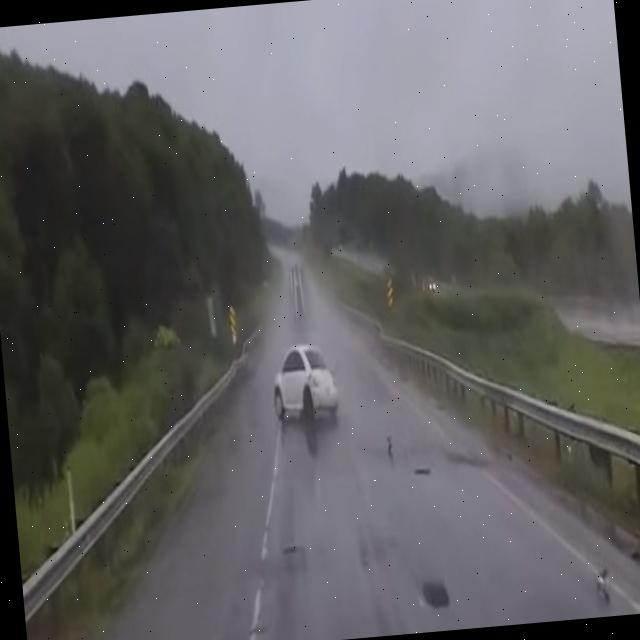car: (268, 342, 340, 424)
